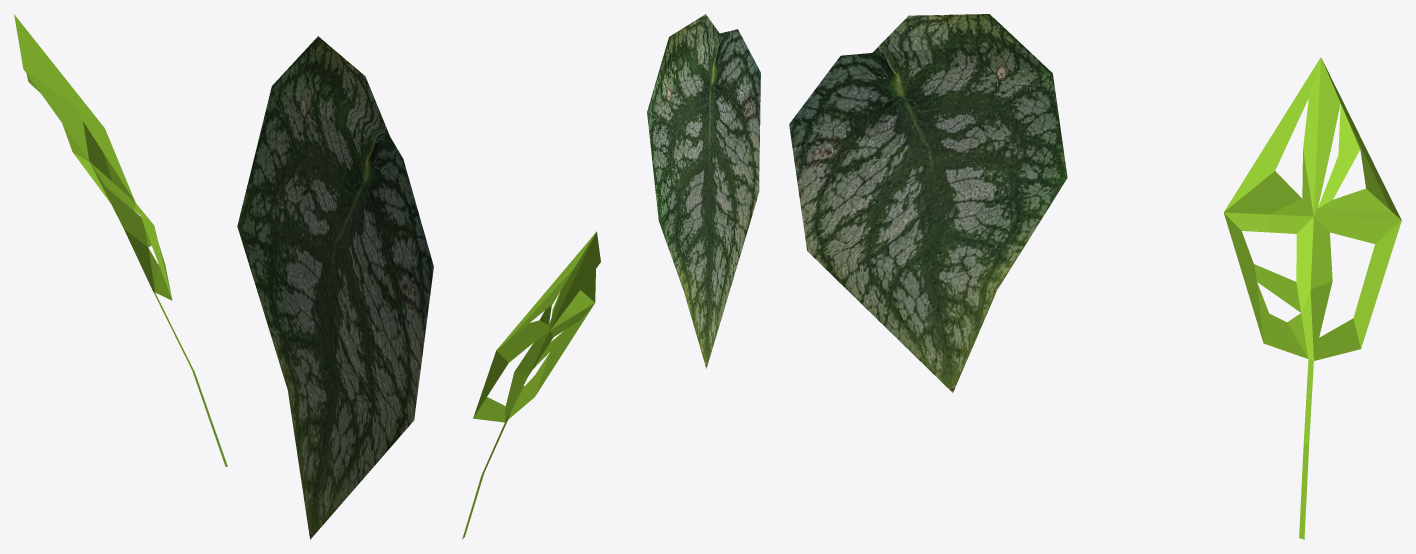
Rendered from plants.fbx.
3 renders of one model, left to right at view 1: azimuth 30°, elevation 25°; view 2: azimuth 150°, elevation 25°; view 3: azimuth 270°, elevation 25°, orthographic. The views are drawn at different scales.
Parts seen in each view (by area): view 1: Plane.004, Plane.005; view 2: Plane.004, Plane.005; view 3: Plane.004, Plane.005.
Part boxes in pixels (bbox=[...]): Plane.004: bbox=[237, 36, 433, 539]; Plane.005: bbox=[14, 14, 227, 466]; Plane.004: bbox=[647, 14, 760, 368]; Plane.005: bbox=[462, 231, 600, 539]; Plane.004: bbox=[789, 14, 1067, 392]; Plane.005: bbox=[1223, 57, 1401, 539].
Size of the model in its own units: 284 by 804 by 918.
